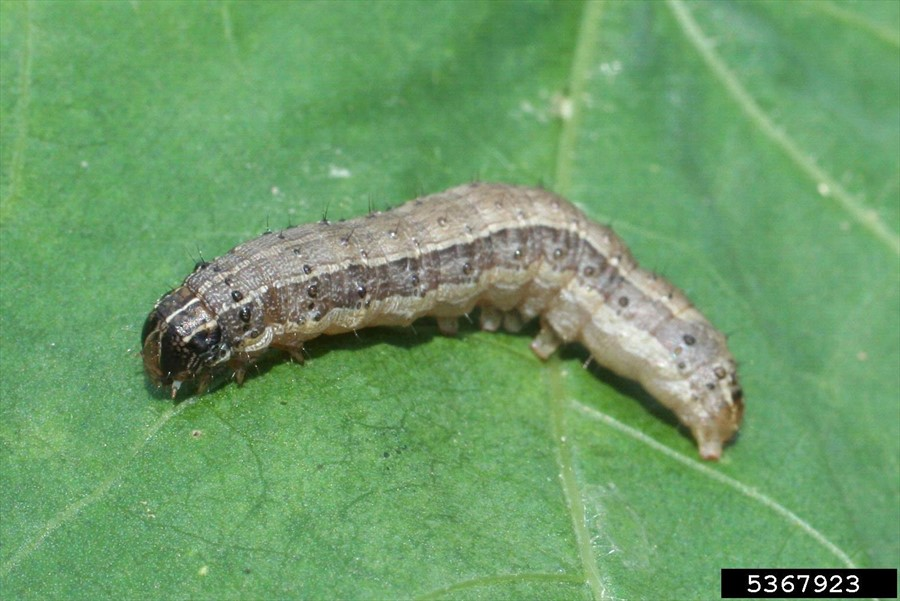Armyworm: (133, 163, 751, 474)
